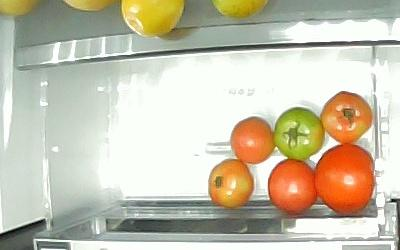tomato: (313, 142, 375, 214), (319, 90, 373, 144), (271, 105, 324, 160), (266, 157, 318, 213), (207, 157, 254, 208), (229, 114, 275, 164)
